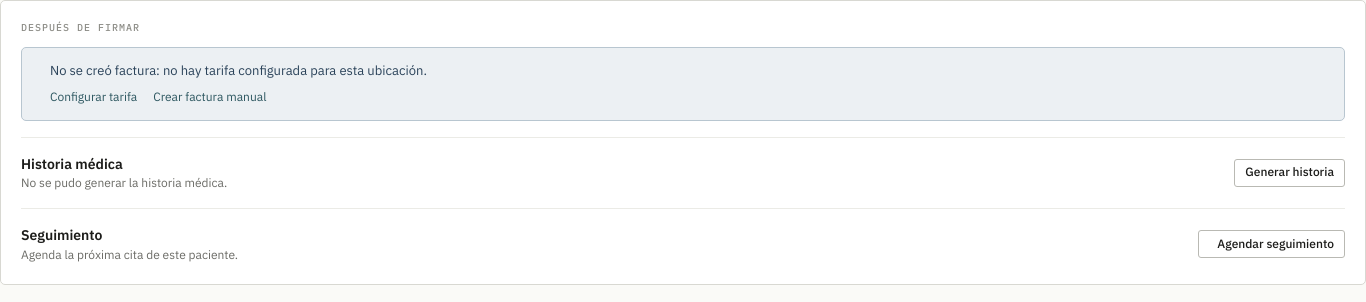
PostSignPanel historia card › updates the card to show success after retry succeeds
Expected: the text "No se pudo generar la historia médica." is shown, [21,175,227,192]
Click the button "Generar historia" at (1290, 173), box [1234,159,1345,187]
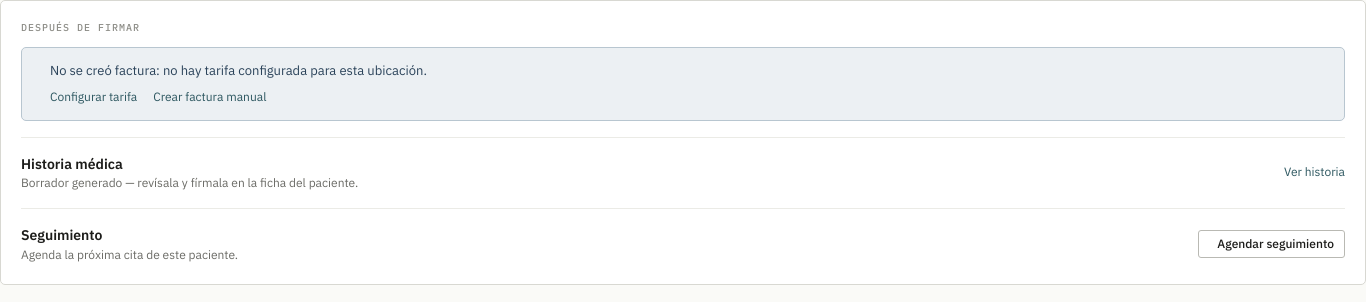
Now the text "Borrador generado — revísala y fírmala en la ficha del paciente." is shown, box [21,175,358,192]
Now the link "Ver historia" is shown, box [1284,164,1345,181]
Now the button "Generar historia" is gone
